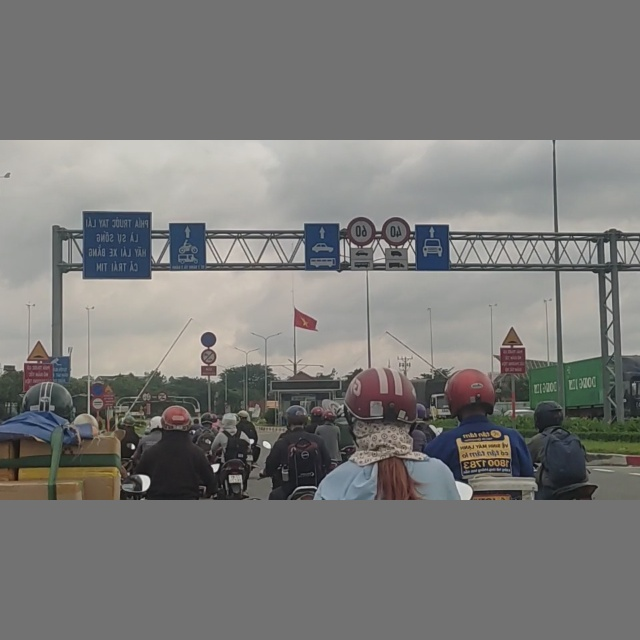Camera: (51, 355, 71, 383)
P.107: (141, 391, 152, 402), (157, 391, 167, 401)
P.111: (201, 349, 216, 364)
P.127*40: (381, 217, 411, 247)
P.127*60: (347, 217, 375, 246)
P.129: (91, 397, 104, 411)
P.130: (201, 332, 216, 347)
P.131a: (91, 383, 105, 397)
W.221b: (25, 341, 49, 361), (502, 327, 523, 345), (104, 384, 113, 393)
